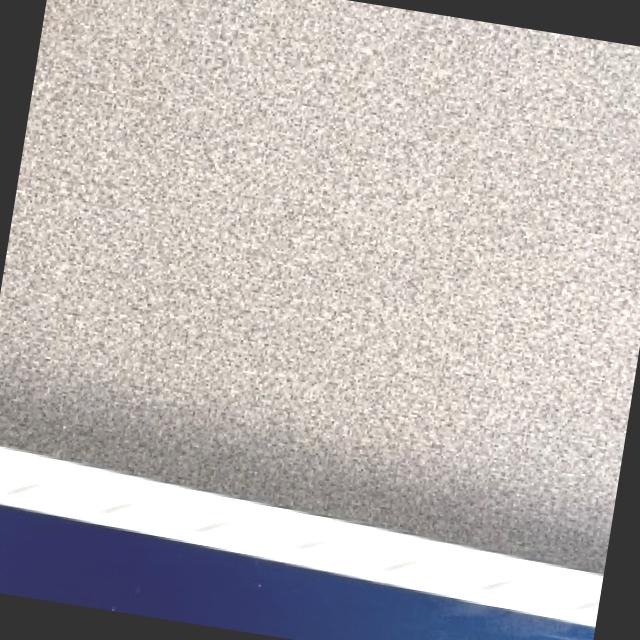healthy: (0, 0, 640, 570), (0, 444, 598, 640)
